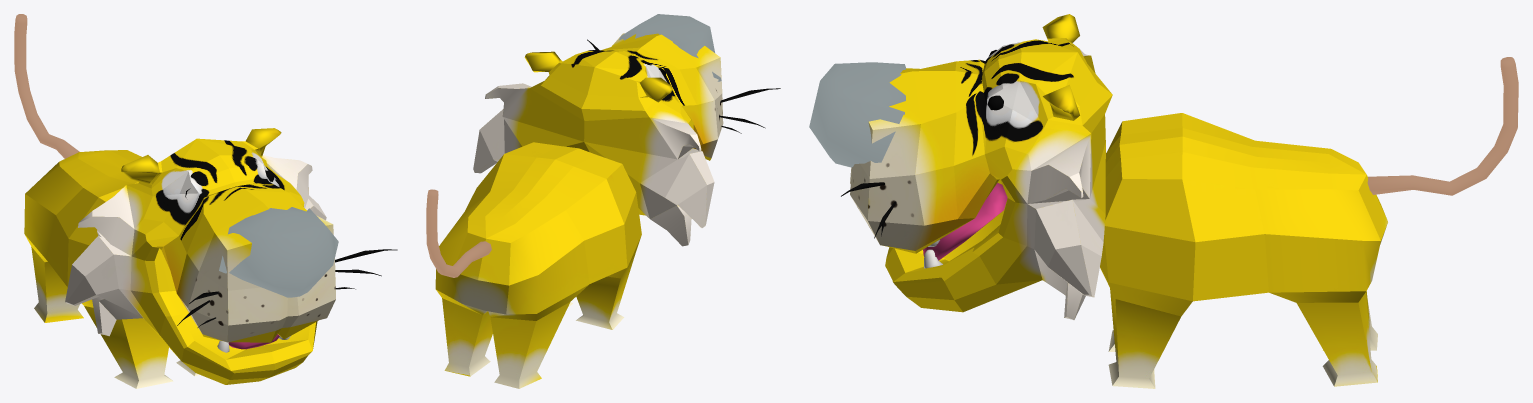
File: Tiger_FBX.fbx
The picture shows the model from 3 angles, left to right: view 1: azimuth 30°, elevation 25°; view 2: azimuth 150°, elevation 25°; view 3: azimuth 270°, elevation 25°; orthographic projection. The views are drawn at different scales.
Parts seen in each view (by area): view 1: head, body, nose, tail, hair; view 2: body, head, nose, tail, hair1; view 3: body, head, nose, tail, tonge.
Part boxes in pixels (bbox=[...]): head: bbox=[65, 128, 335, 384]; body: bbox=[24, 150, 199, 388]; nose: bbox=[219, 207, 338, 297]; tail: bbox=[14, 14, 79, 158]; hair: bbox=[335, 249, 397, 289]; body: bbox=[435, 142, 641, 388]; head: bbox=[473, 33, 723, 246]; nose: bbox=[619, 14, 721, 81]; tail: bbox=[426, 189, 491, 277]; hair1: bbox=[719, 88, 780, 133]; body: bbox=[1100, 113, 1387, 388]; head: bbox=[850, 14, 1112, 319]; nose: bbox=[809, 62, 905, 167]; tail: bbox=[1367, 57, 1518, 195]; tonge: bbox=[923, 183, 1007, 260].
Bounding box in the file's own units: 7.03 × 6.66 × 13.99.
8 materials, 2 textured.
